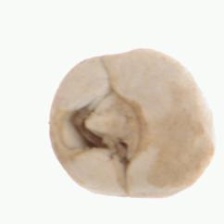L3: (72, 91, 144, 168)
L4: (49, 48, 215, 199)
